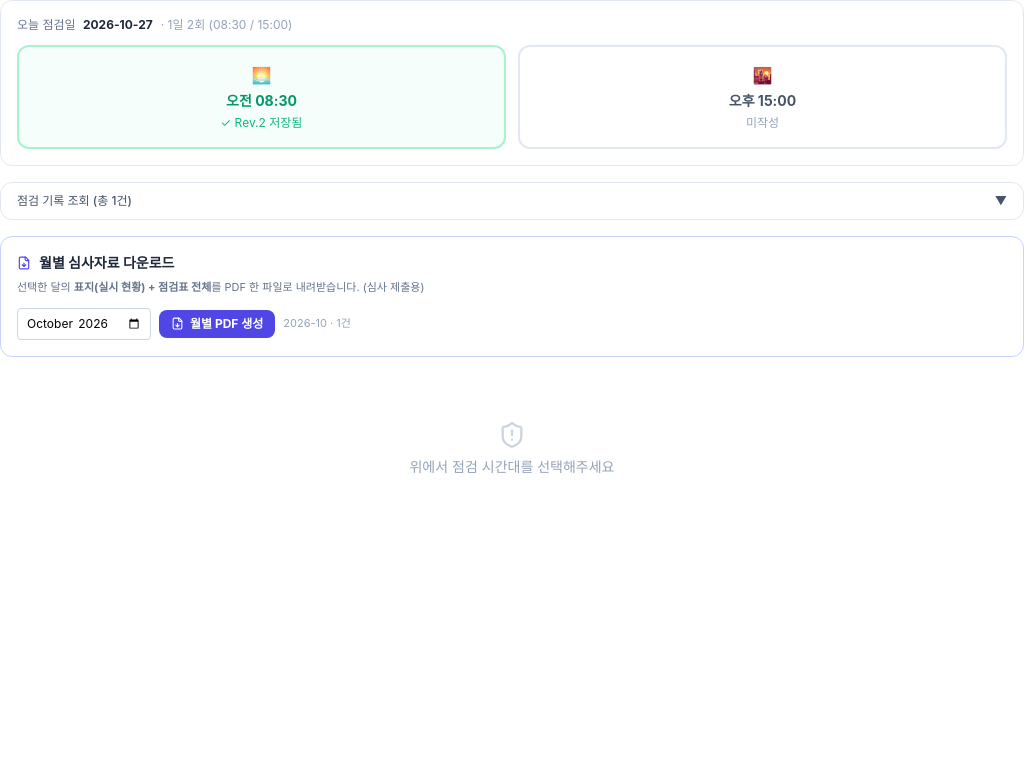
Test: 저장본문빈행을로컬pass로만완료하면먼저저장하고query0같은ID로확인한다
Click the button "🌅 오전 08:30 ✓ Rev.2 저장됨": (262, 97) 17,45 -> 506,149
(page scrolled)
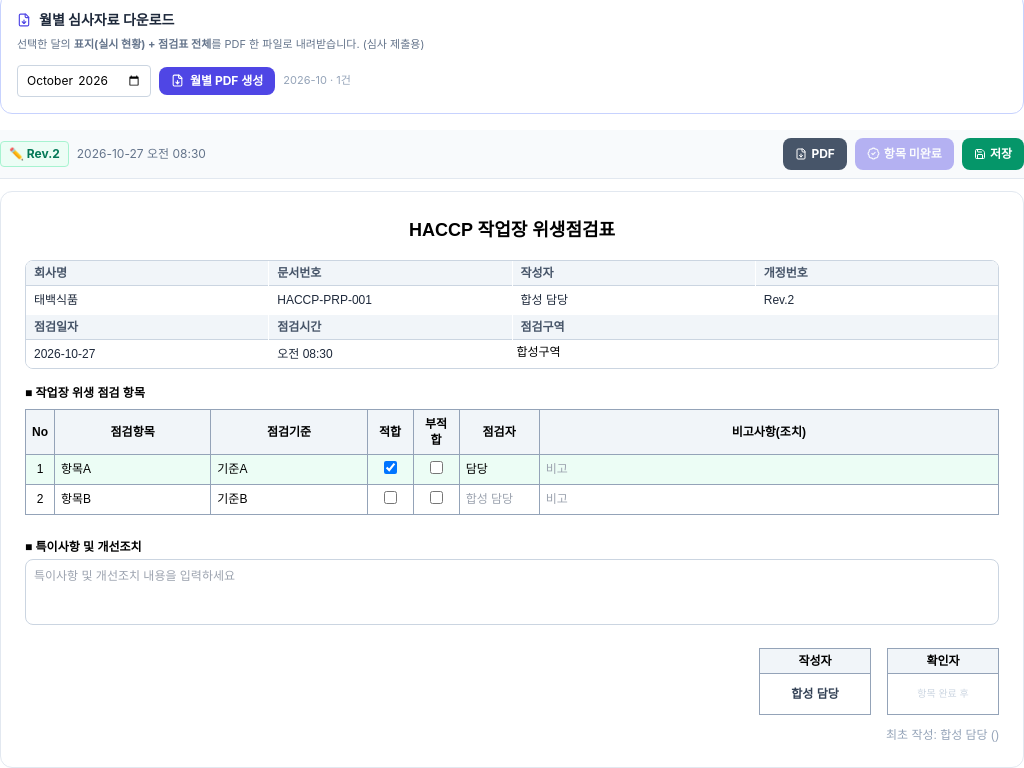
Click the 3rd checkbox: (390, 497) 384,490 -> 397,504
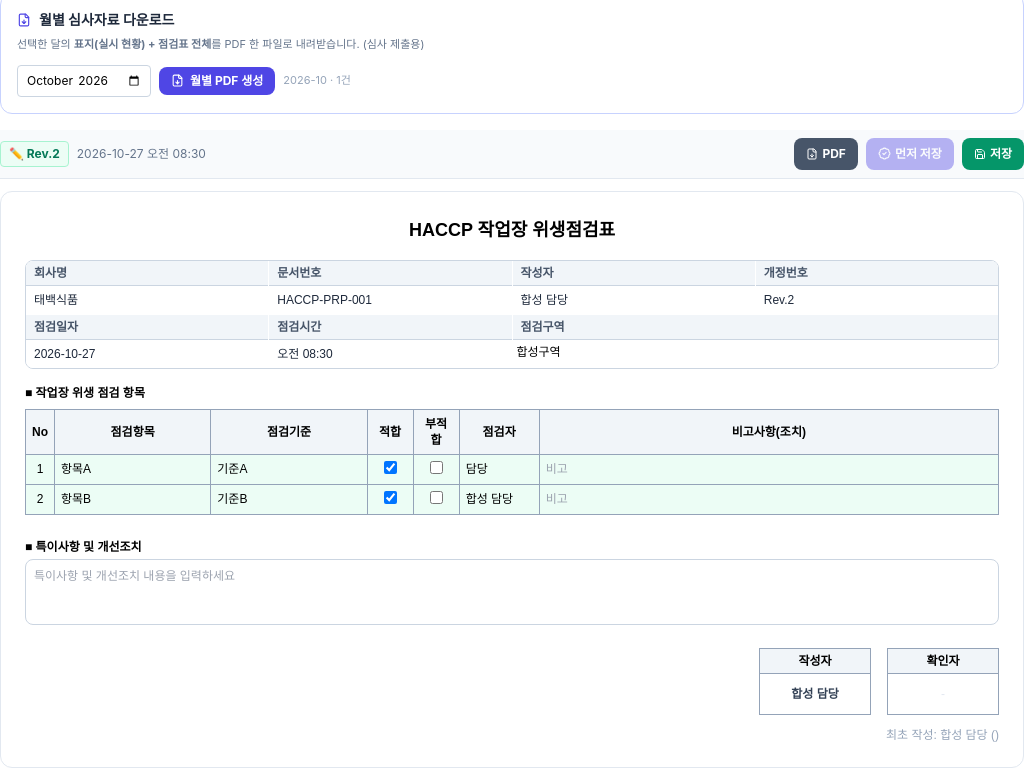
Expected: the button "먼저 저장" is disabled, 866,138 -> 954,170
Click the button "저장": (993, 154) 962,138 -> 1023,170
(page scrolled)
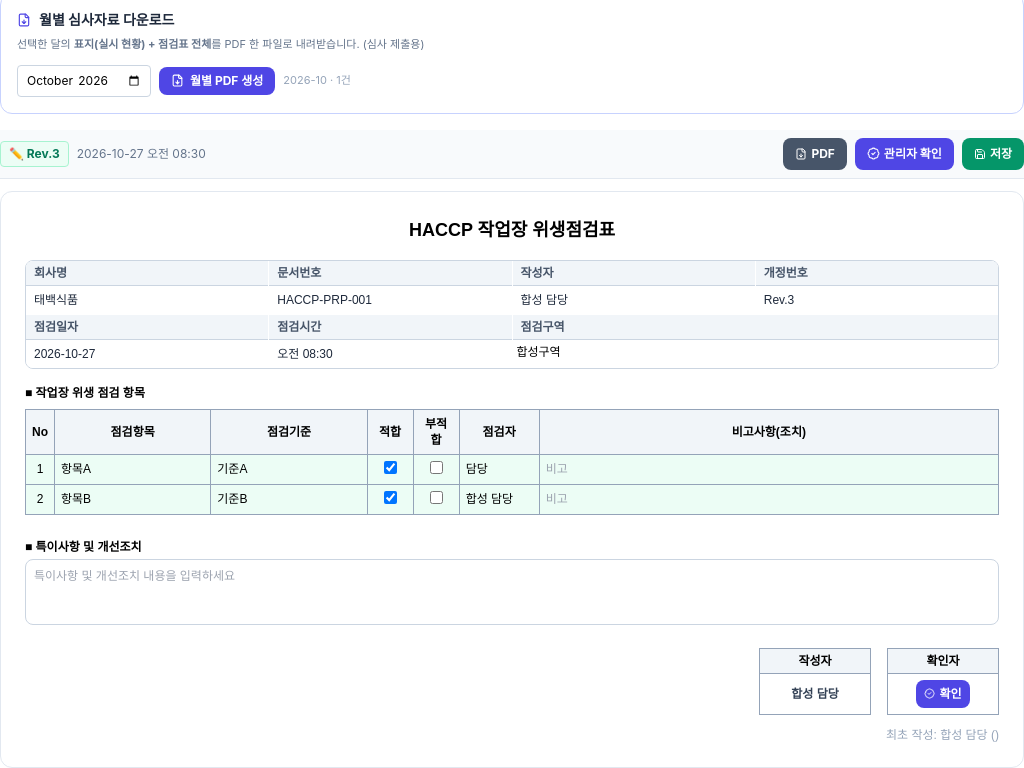
Click the button "관리자 확인": (904, 154) 855,138 -> 954,170
(page scrolled)
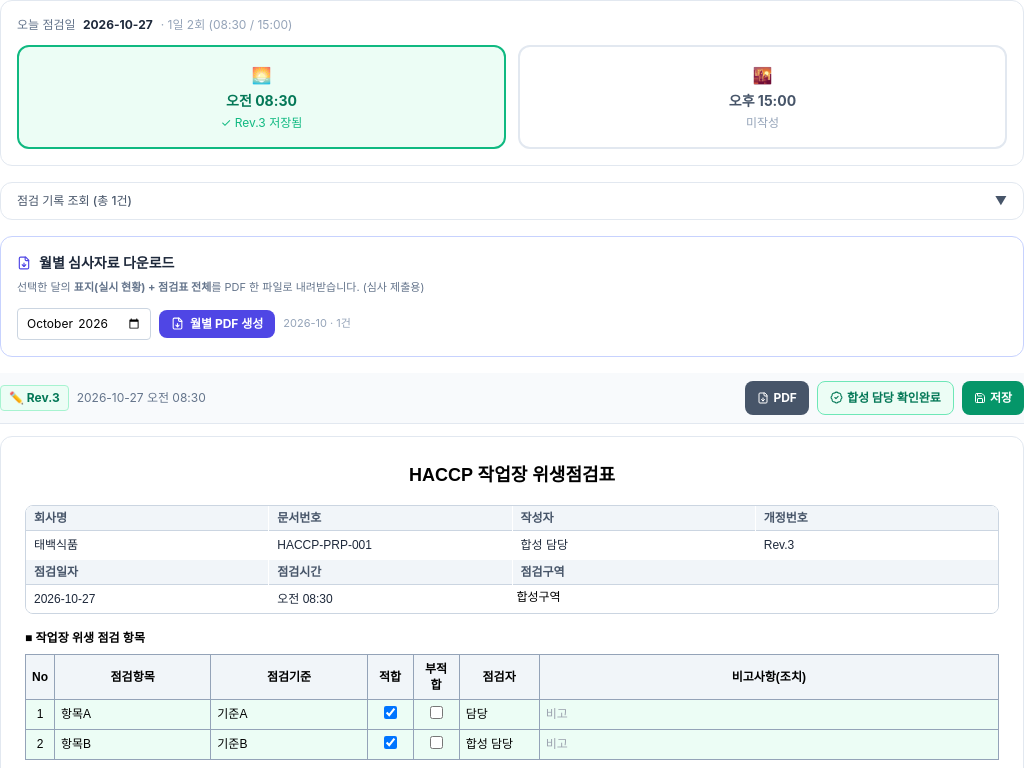
Click the button "🌇 오후 15:00 미작성": (762, 97) 518,45 -> 1007,149
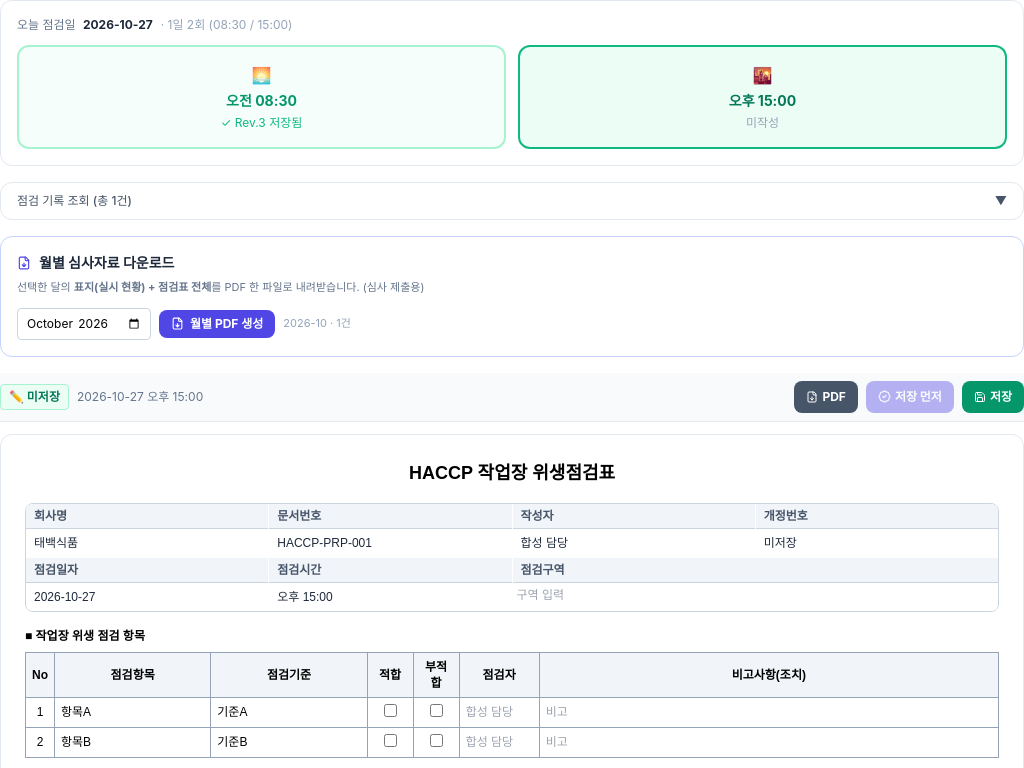
Click the button "🌅 오전 08:30 ✓ Rev.3 저장됨": (262, 97) 17,45 -> 506,149
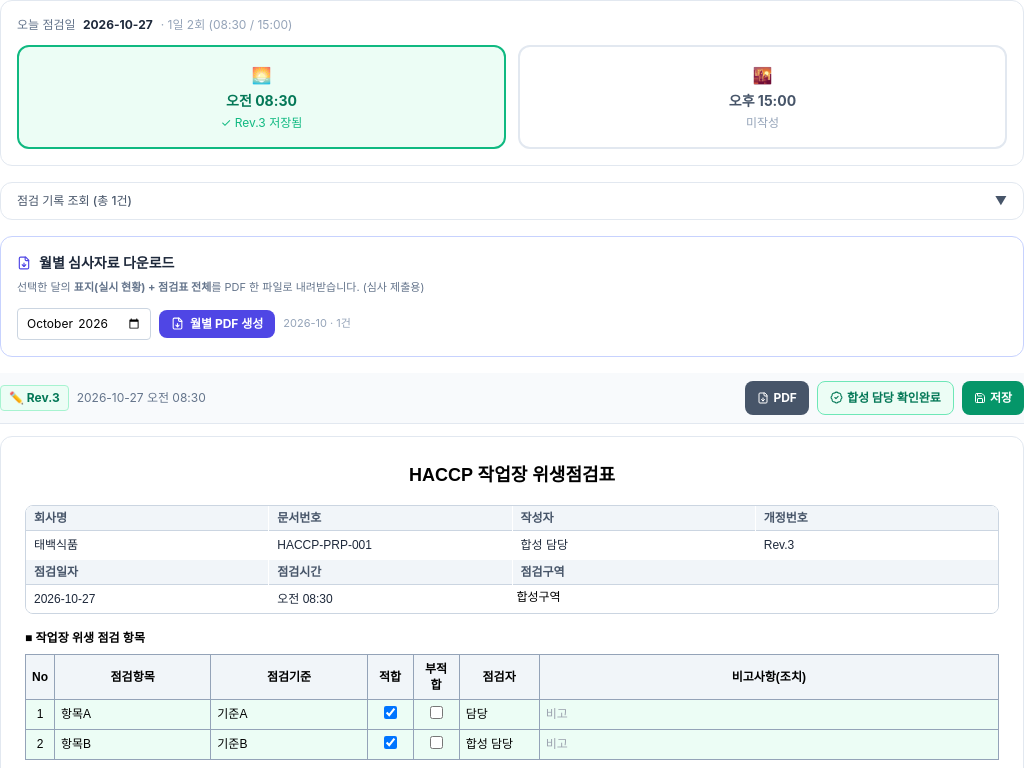
Expected: the 3rd checkbox is checked, 384,736 -> 397,748
Expected: the text "합성 담당 확인완료" is shown, 817,380 -> 954,414
